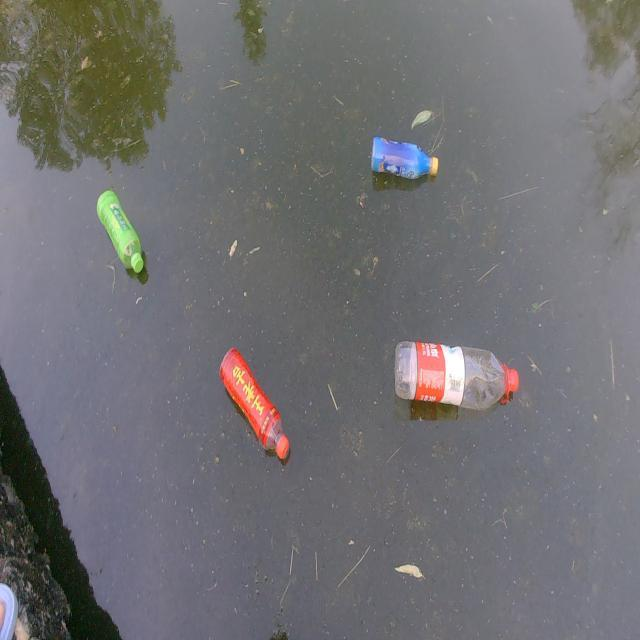bottle: (372, 306, 534, 442), (196, 307, 312, 483), (82, 173, 170, 296), (351, 127, 454, 192)
